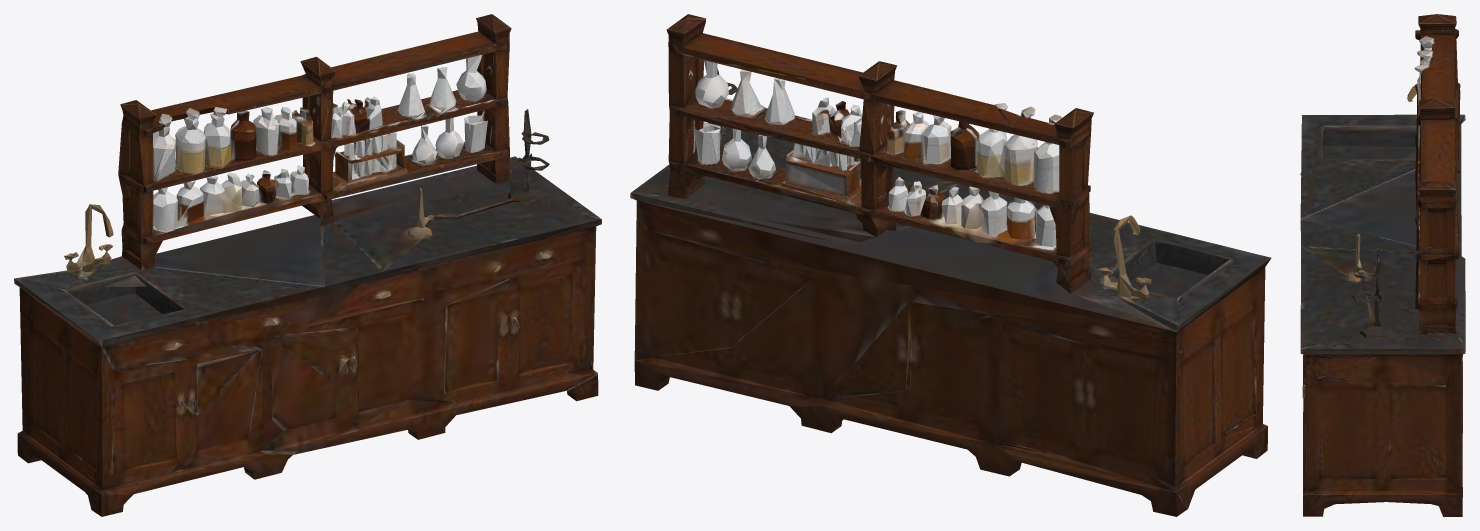
File: bench.glb
The picture shows the model from 3 angles, left to right: view 1: azimuth 30°, elevation 25°; view 2: azimuth 150°, elevation 25°; view 3: azimuth 270°, elevation 25°; orthographic projection. The views are drawn at different scales.
Parts seen in each view (by area): view 1: Mesh_0; view 2: Mesh_0; view 3: Mesh_0.
Boxes of the visible parts, x1,y1,x2,y2 form: Mesh_0: [14, 14, 601, 516]; Mesh_0: [630, 14, 1271, 516]; Mesh_0: [1300, 14, 1465, 516].
Size of the model in its own units: 1.9 by 1.22 by 0.5675.
Materials: 1 (1 with a texture image).
